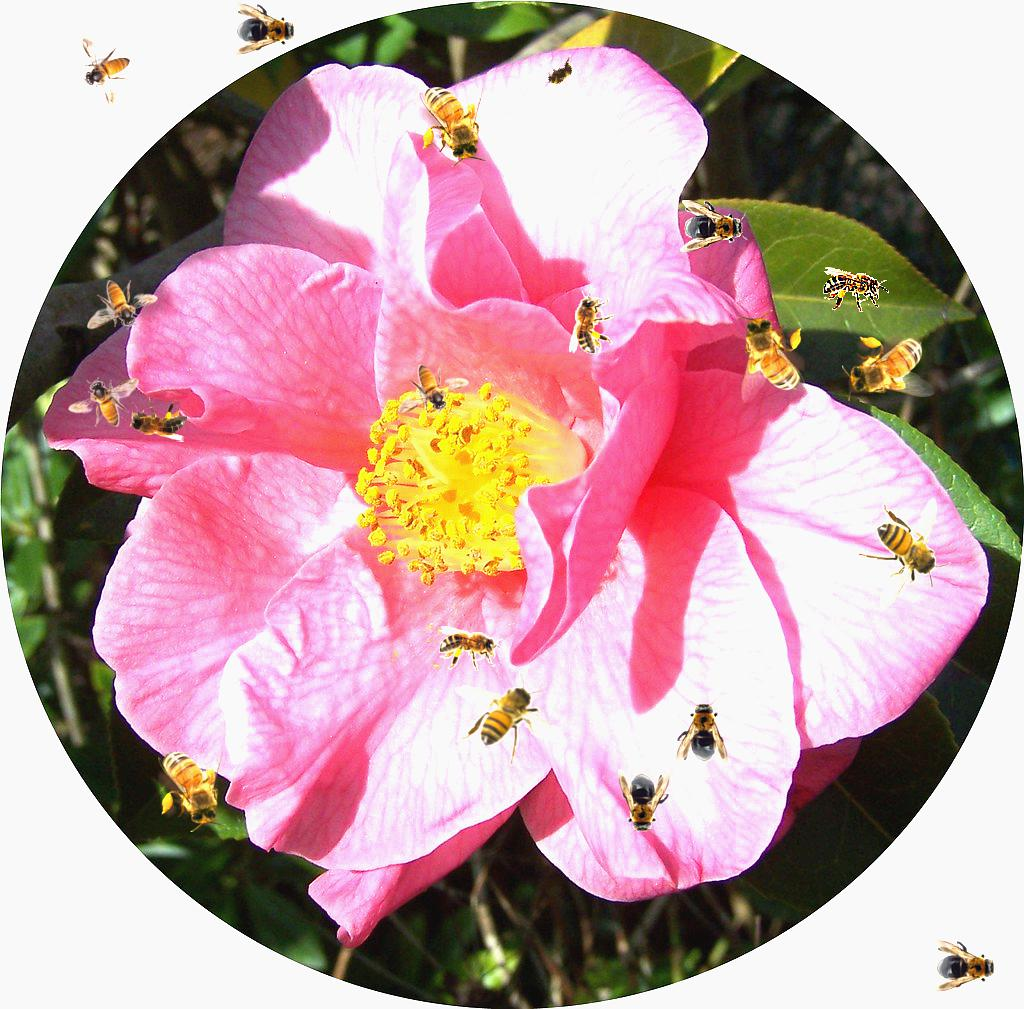Bee: (455, 672, 566, 766), (857, 498, 951, 609), (419, 74, 487, 167), (842, 333, 935, 401), (158, 739, 226, 832), (737, 310, 805, 403), (68, 377, 139, 427), (81, 37, 131, 108), (87, 280, 158, 330), (398, 364, 469, 414), (932, 940, 1000, 992), (618, 769, 670, 837), (232, 3, 300, 55), (680, 200, 748, 252), (676, 698, 728, 766), (121, 397, 187, 442), (439, 626, 505, 671), (823, 267, 889, 312), (569, 288, 614, 354), (537, 54, 583, 94)
